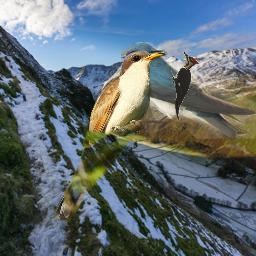Cuckoo: (51, 46, 169, 225)
Swallow: (121, 42, 256, 139)
Woodpecker: (168, 52, 199, 120)
